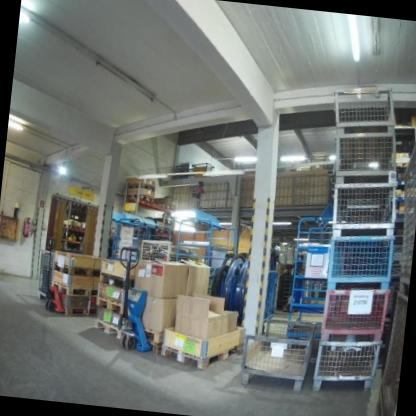pallet: (159, 334, 244, 374), (51, 279, 101, 300), (90, 317, 124, 342), (52, 262, 101, 279), (97, 271, 134, 293), (94, 294, 125, 317), (64, 302, 101, 321), (127, 180, 155, 192), (125, 192, 154, 203)
pallet_truck: (108, 245, 163, 356), (38, 236, 72, 317)
stillage: (239, 308, 317, 392), (321, 226, 400, 300), (328, 173, 402, 245), (309, 333, 385, 400), (317, 282, 393, 348), (328, 125, 401, 190), (391, 117, 416, 296), (331, 77, 402, 139), (376, 285, 409, 416), (140, 236, 194, 264), (34, 247, 58, 304)
